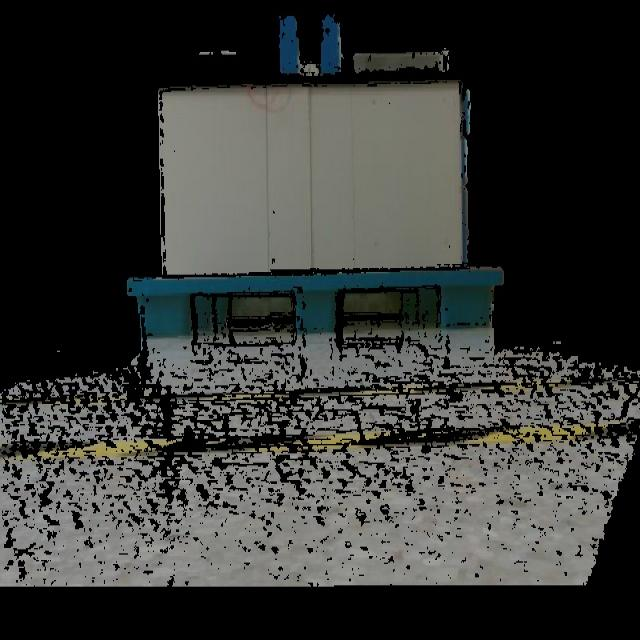block: (435, 283, 499, 332), (135, 292, 196, 340), (292, 288, 338, 338)
front: (126, 265, 505, 341)
